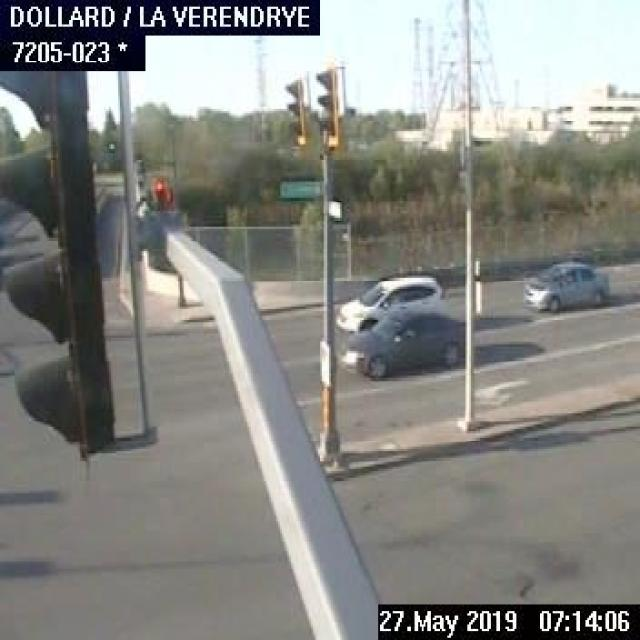vehicle: (335, 303, 465, 378), (333, 272, 442, 334), (520, 256, 609, 311)
